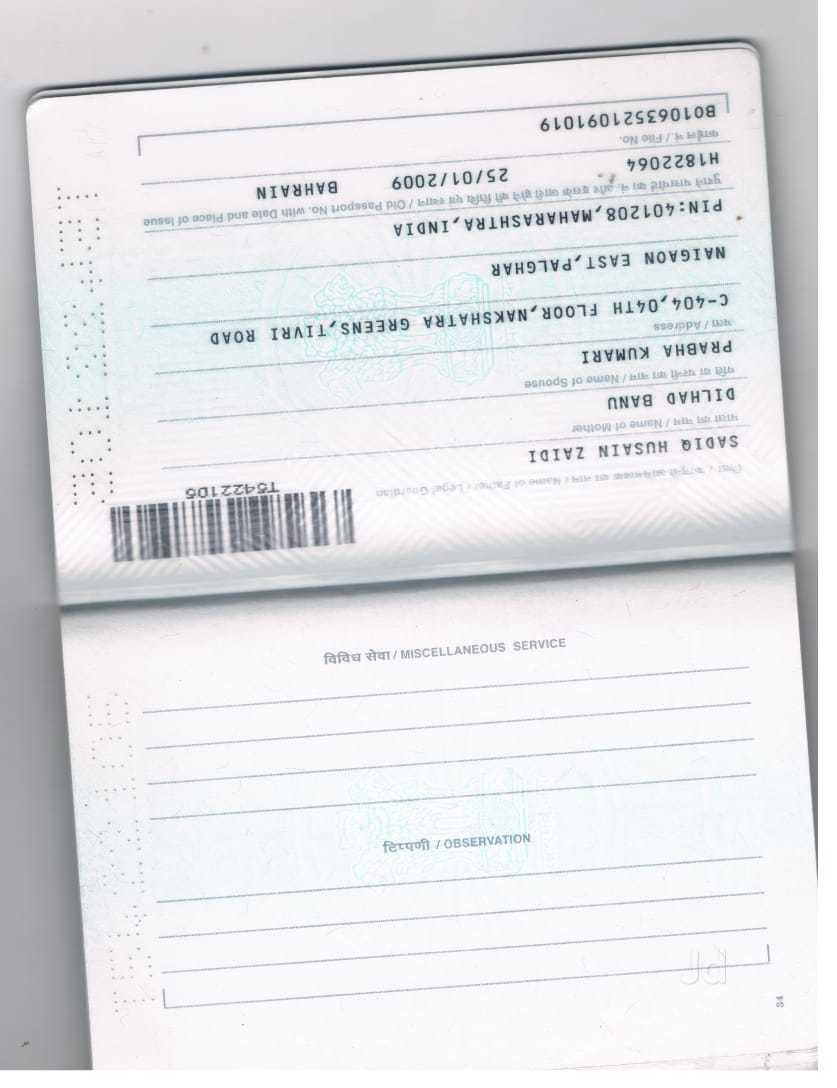File_no: (521, 95, 726, 141)
address: (184, 191, 743, 357)
father_name: (516, 424, 748, 471)
mother_name: (598, 378, 750, 419)
old_passport_details: (238, 143, 733, 207)
passport_no: (165, 472, 286, 503)
spouse_name: (571, 334, 742, 374)
